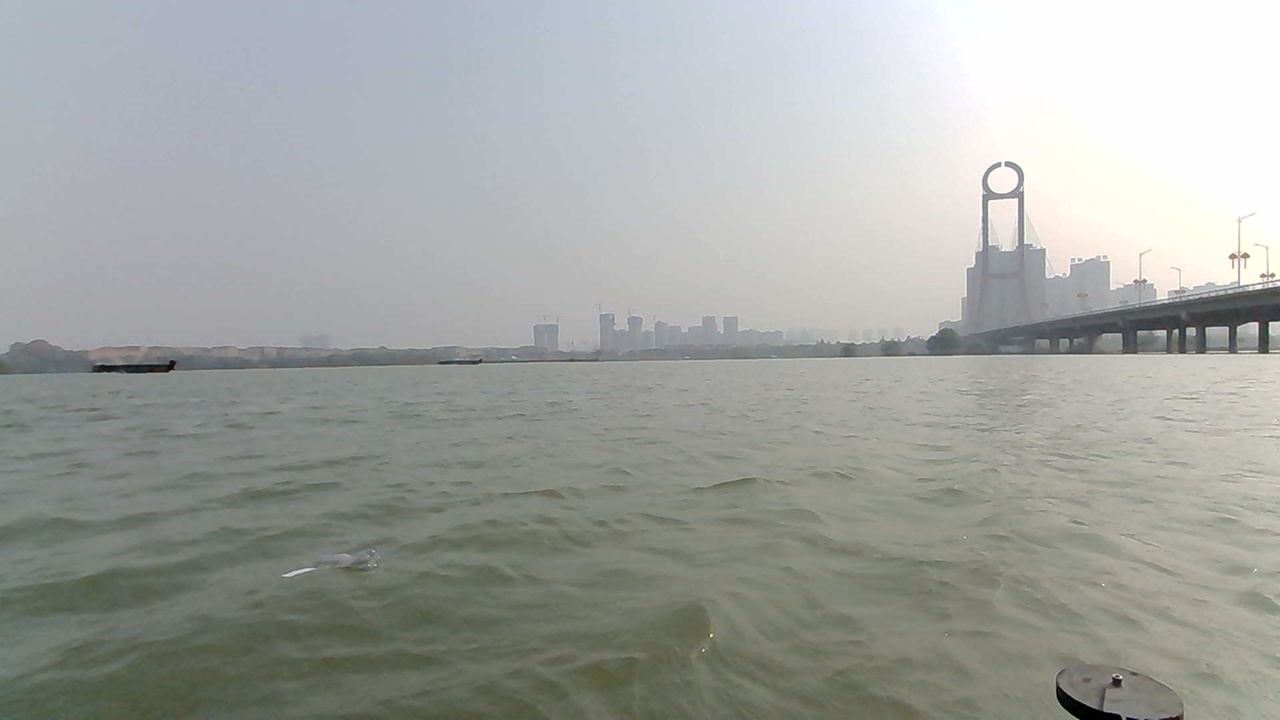bottle: (252, 539, 402, 601)
